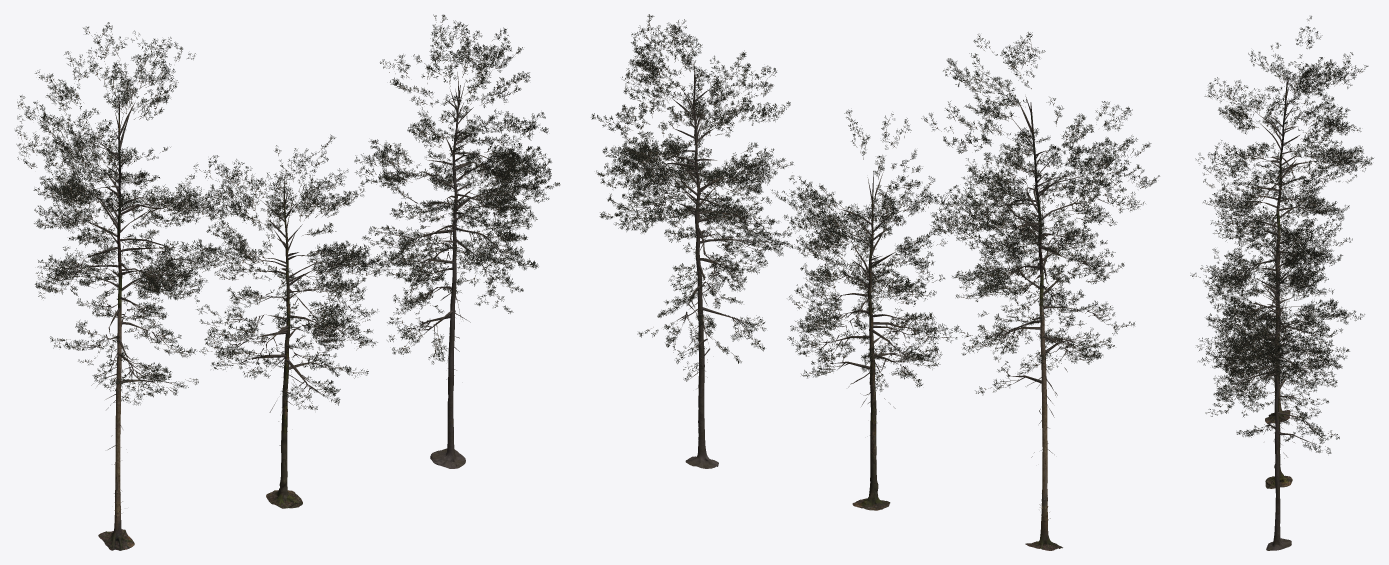
File: pine_tree_01_lod1.glb
The picture shows the model from 3 angles, left to right: view 1: azimuth 30°, elevation 25°; view 2: azimuth 150°, elevation 25°; view 3: azimuth 270°, elevation 25°; orthographic projection. The views are drawn at different scales.
Visible parts, largest first — view 1: pine_tree_01_a_LOD0, pine_tree_01_c_LOD0, pine_tree_01_b_LOD0; view 2: pine_tree_01_a_LOD0, pine_tree_01_c_LOD0, pine_tree_01_b_LOD0; view 3: pine_tree_01_a_LOD0, pine_tree_01_c_LOD0, pine_tree_01_b_LOD0.
Part boxes in pixels (left/top/right/bottom): pine_tree_01_a_LOD0: left=15, top=14, right=560, bottom=550; pine_tree_01_c_LOD0: left=430, top=85, right=465, bottom=468; pine_tree_01_b_LOD0: left=266, top=193, right=302, bottom=508; pine_tree_01_a_LOD0: left=591, top=14, right=1159, bottom=550; pine_tree_01_c_LOD0: left=685, top=73, right=718, bottom=468; pine_tree_01_b_LOD0: left=852, top=187, right=890, bottom=510; pine_tree_01_a_LOD0: left=1190, top=16, right=1373, bottom=479; pine_tree_01_c_LOD0: left=1266, top=253, right=1291, bottom=550; pine_tree_01_b_LOD0: left=1265, top=238, right=1292, bottom=488.
Bounding box in the file's own units: 21.8 × 20.36 × 8.53.
Materials: 6 (6 with a texture image).
